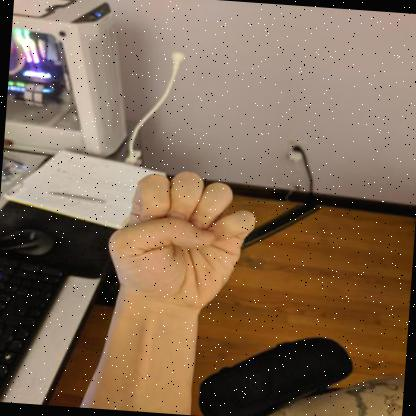E: (109, 171, 255, 315)
